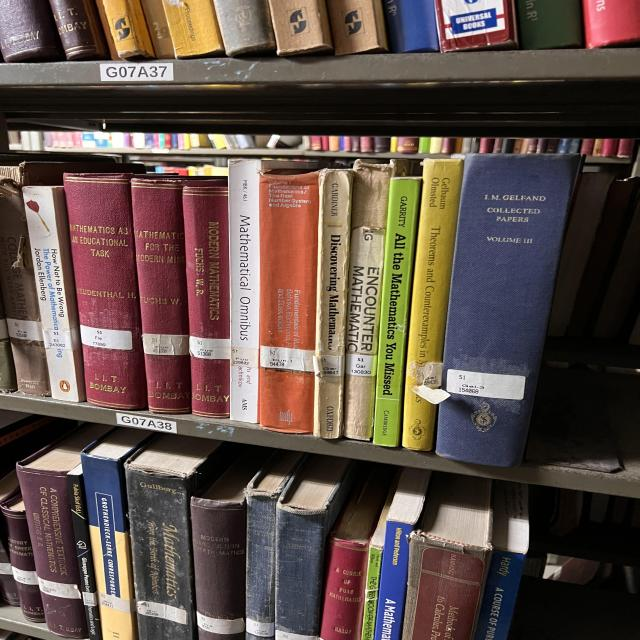Book: (437, 154, 583, 466), (228, 159, 317, 424), (125, 435, 228, 640), (17, 425, 112, 639), (63, 174, 147, 409), (402, 159, 463, 451), (258, 170, 318, 434), (190, 448, 272, 640), (275, 455, 357, 640), (82, 429, 152, 640), (132, 178, 190, 414), (22, 186, 85, 402), (373, 178, 422, 446), (343, 165, 390, 440), (320, 466, 393, 640), (245, 450, 303, 640), (183, 186, 230, 418), (0, 178, 50, 396), (313, 169, 353, 439), (375, 468, 432, 640), (412, 548, 485, 640), (362, 474, 400, 640), (67, 465, 102, 640), (0, 495, 45, 621), (473, 549, 525, 640), (435, 0, 518, 52), (48, 0, 110, 61), (162, 0, 225, 59), (213, 0, 277, 58), (268, 0, 333, 56), (327, 0, 388, 55), (517, 0, 583, 50), (102, 0, 155, 60), (383, 0, 440, 54), (583, 0, 640, 49), (140, 0, 175, 59), (0, 521, 20, 606)
Label: (447, 369, 525, 400), (260, 346, 315, 371), (80, 325, 133, 350), (137, 601, 188, 625), (197, 612, 245, 635), (407, 361, 443, 388), (142, 334, 188, 355), (190, 336, 230, 360), (38, 578, 82, 599), (7, 319, 43, 341), (98, 592, 132, 614), (345, 354, 377, 376), (313, 355, 343, 376), (230, 346, 258, 368), (43, 330, 73, 350), (247, 618, 275, 636), (12, 566, 38, 585), (275, 629, 318, 640), (82, 592, 98, 606), (0, 562, 13, 575)
